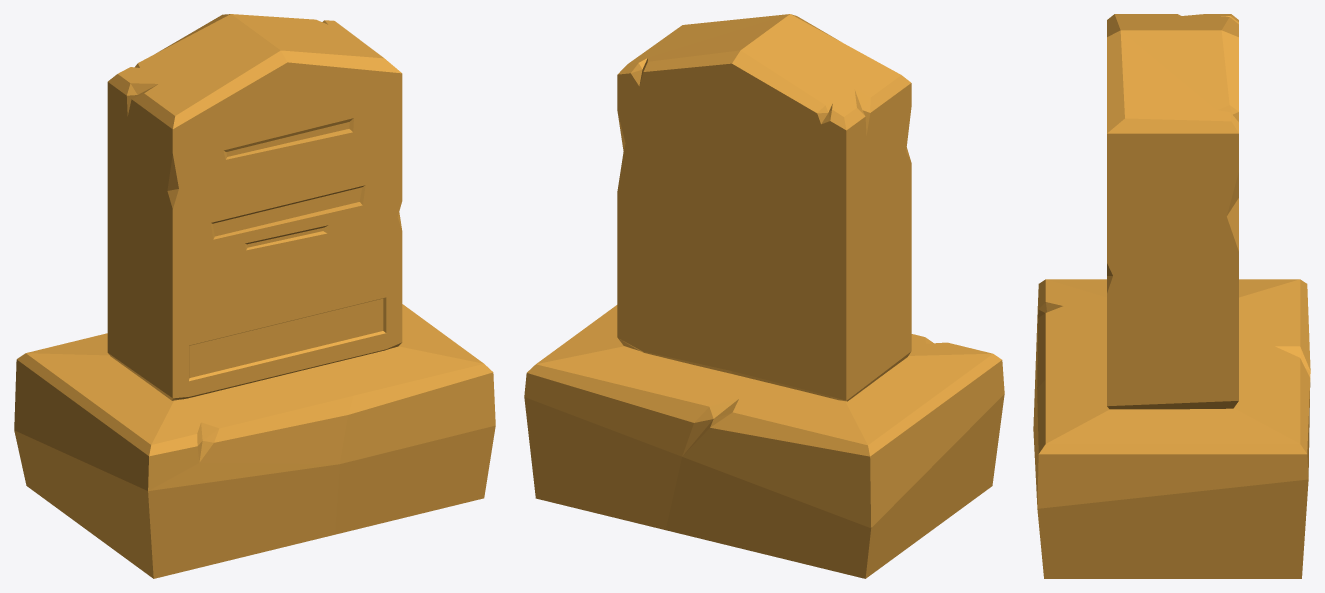
Rendered from gravestone-old-small-a.fbx.
3 renders of one model, left to right at view 1: azimuth 30°, elevation 25°; view 2: azimuth 150°, elevation 25°; view 3: azimuth 270°, elevation 25°, orthographic.
Parts seen in each view (by area): view 1: gravestone-old-small-a; view 2: gravestone-old-small-a; view 3: gravestone-old-small-a.
Boxes of the visible parts, left/top/right/bottom form: gravestone-old-small-a: left=14, top=14, right=495, bottom=578; gravestone-old-small-a: left=524, top=14, right=1004, bottom=578; gravestone-old-small-a: left=1033, top=14, right=1310, bottom=578.
Bounding box in the file's own units: 0.6059 × 0.767 × 0.4128.
